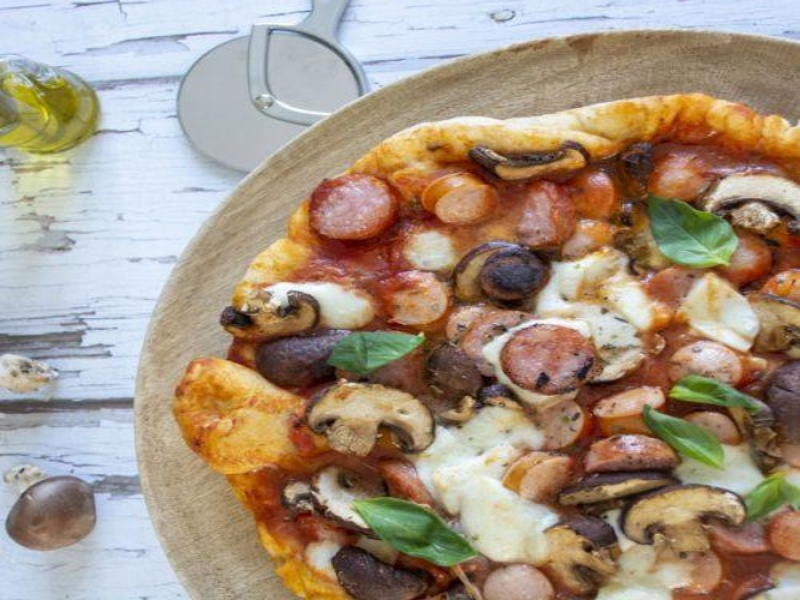champignon: (305, 378, 447, 462), (617, 478, 748, 561), (693, 155, 800, 241), (212, 284, 324, 347)
